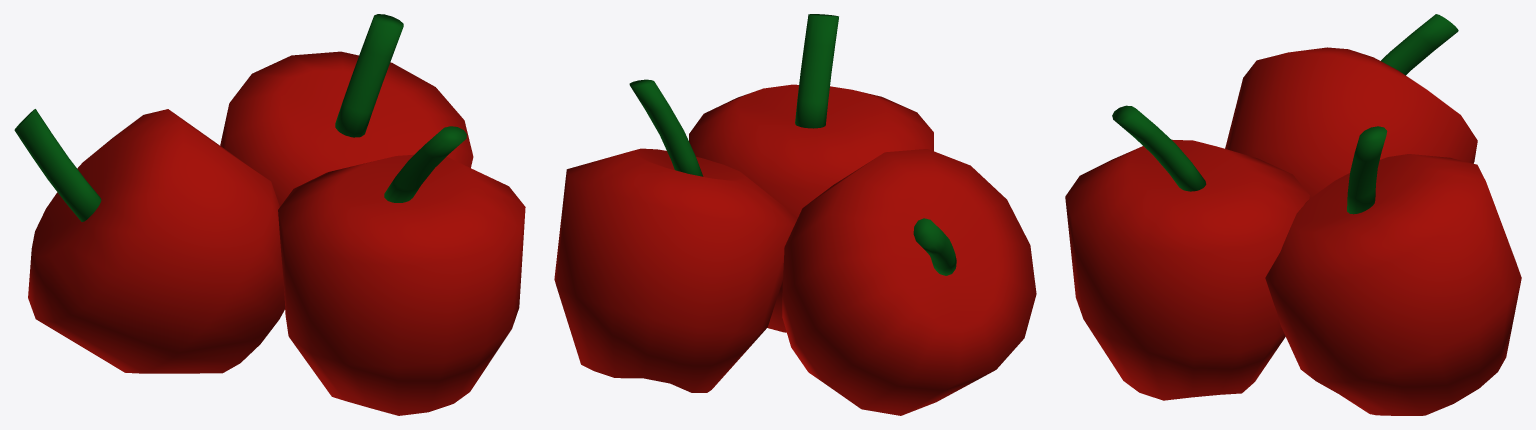
Rendered from applestack.fbx.
3 views of the same model, side by side, from view 1: azimuth 30°, elevation 25°; view 2: azimuth 150°, elevation 25°; view 3: azimuth 270°, elevation 25° (orthographic).
Parts seen in each view (by area): view 1: apple; view 2: apple; view 3: apple.
Part boxes in pixels (<box>): apple: <box>14,14,525,415</box>; apple: <box>554,14,1036,415</box>; apple: <box>1065,14,1521,415</box>.
Bounding box in the file's own units: 87.43 × 57.23 × 81.18.
